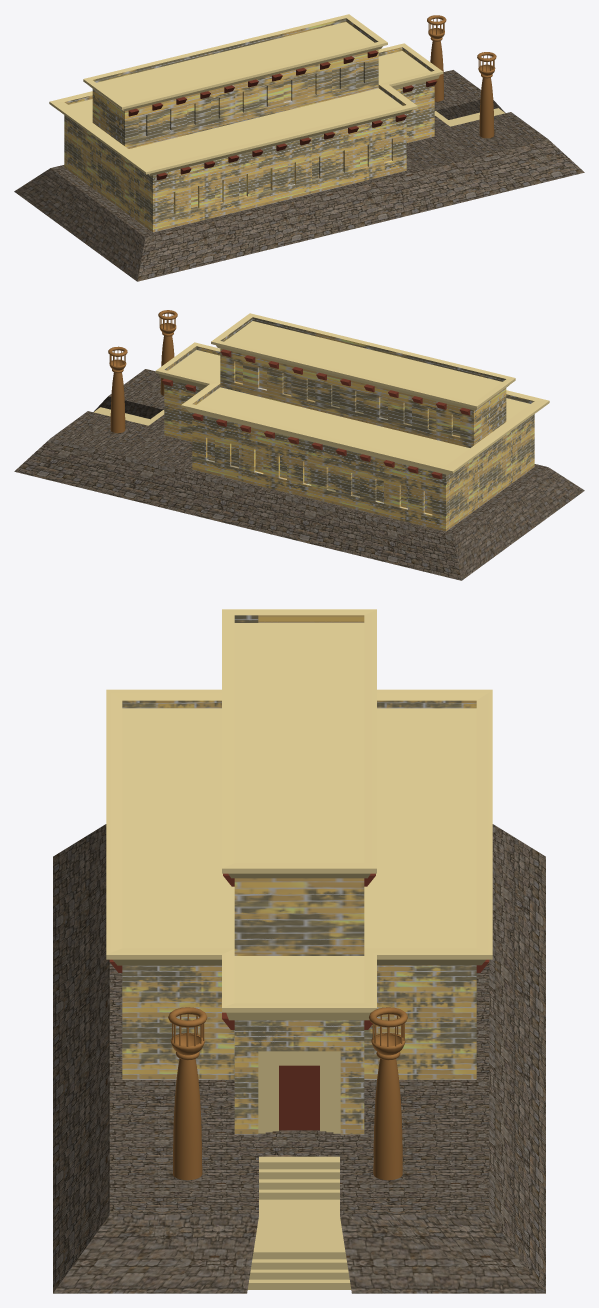
The model's file is Templo de Melkart.fbx.
3 renders of one model, top to bottom at view 1: azimuth 30°, elevation 25°; view 2: azimuth 150°, elevation 25°; view 3: azimuth 270°, elevation 25°, orthographic. The views are drawn at different scales.
Visible parts, largest first — view 1: Temple, Base, Cylinder, Wood support 3, Wood support 2, Cylinder.002; view 2: Temple, Base, Cylinder.002, Wood support 2, Wood support 3, Cylinder; view 3: Temple, Base, Stair 1, Stair 1.001, Cylinder.002, Cylinder.
Boxes of the visible parts, bbox=[...] form: Temple: bbox=[49, 14, 443, 232]; Base: bbox=[14, 70, 584, 281]; Cylinder: bbox=[479, 77, 494, 138]; Wood support 3: bbox=[128, 50, 378, 116]; Wood support 2: bbox=[156, 114, 406, 180]; Cylinder.002: bbox=[430, 41, 443, 101]; Temple: bbox=[155, 313, 549, 531]; Base: bbox=[14, 369, 584, 580]; Cylinder.002: bbox=[110, 372, 125, 433]; Wood support 2: bbox=[192, 413, 442, 479]; Wood support 3: bbox=[220, 349, 470, 415]; Cylinder: bbox=[160, 336, 174, 395]; Temple: bbox=[106, 609, 492, 1134]; Base: bbox=[53, 824, 545, 1293]; Stair 1: bbox=[247, 1199, 351, 1289]; Stair 1.001: bbox=[259, 1156, 339, 1199]; Cylinder.002: bbox=[373, 1058, 402, 1180]; Cylinder: bbox=[173, 1058, 202, 1180].
Bounding box in the file's own units: 30372 × 8874 × 14493.
